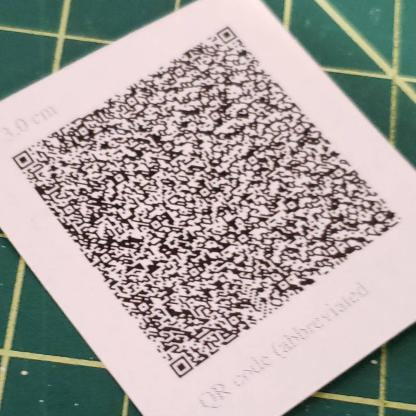qr: (11, 23, 409, 380)
